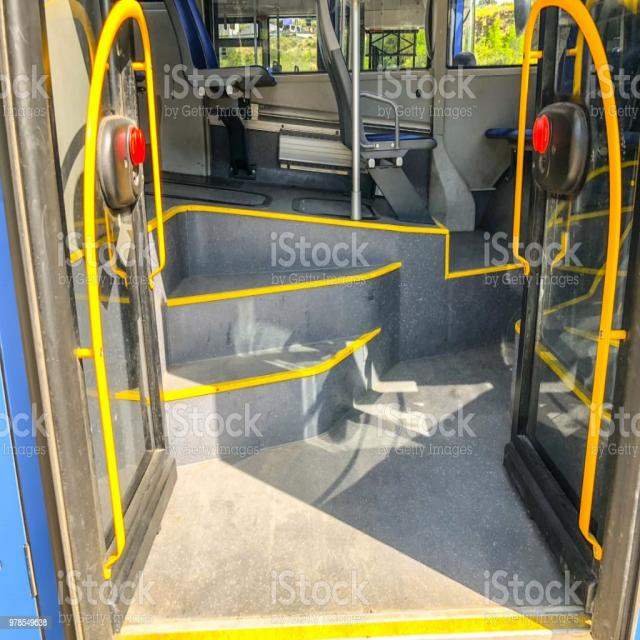Staircase: (150, 215, 408, 455)
